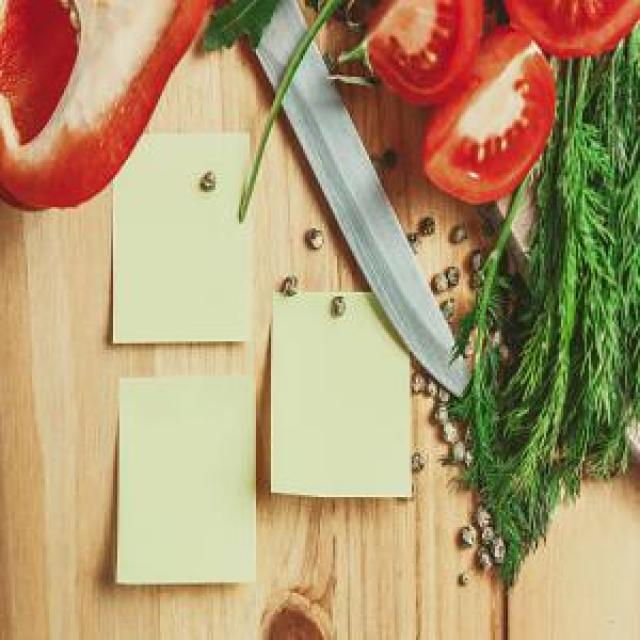knife: (247, 0, 482, 405)
